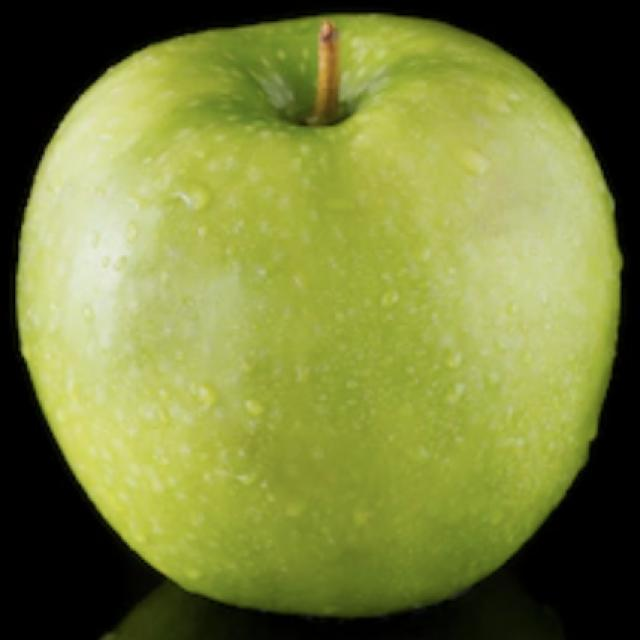Fresh Apple: (32, 31, 620, 602)
